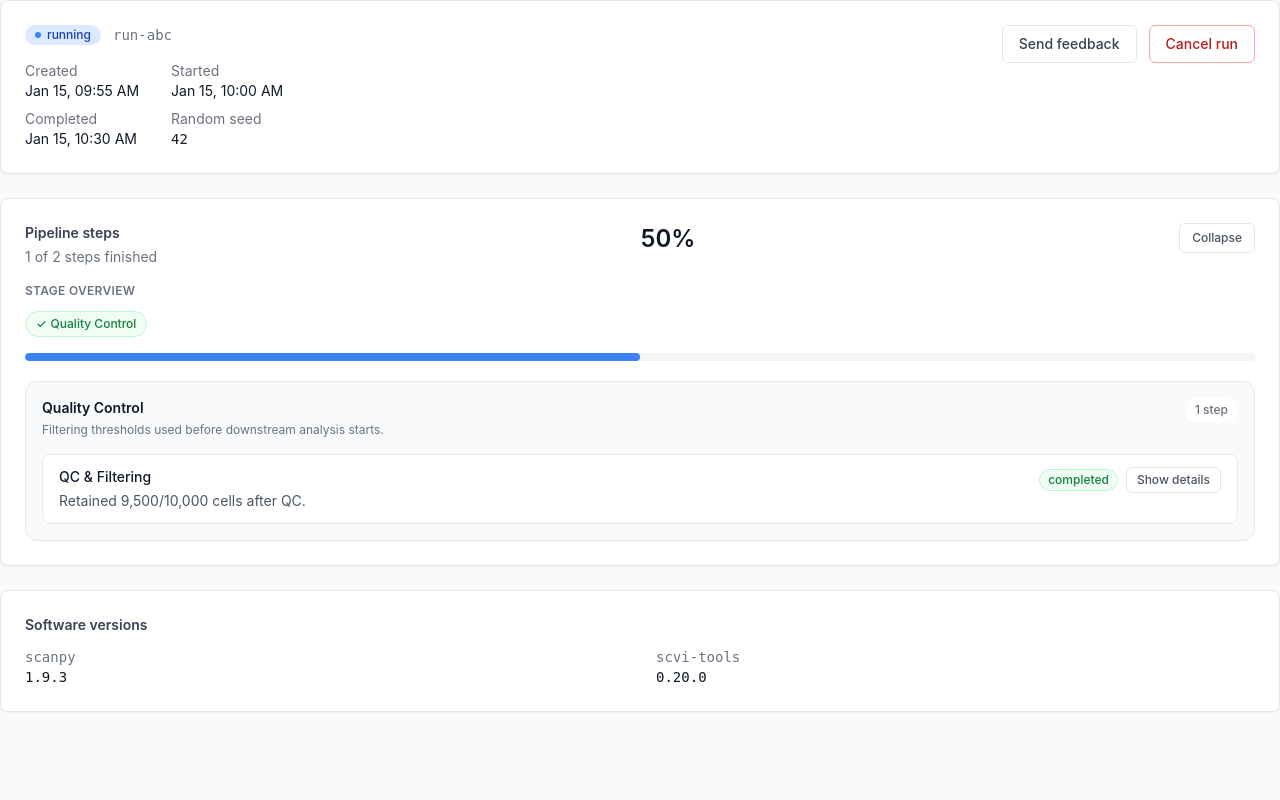
Test: RunDetail › allows expanding and collapsing individual progress steps
What coordinates should you click on to do the following:
click the button "Show details"
I would click on:
 (1173, 480)
Its box is top-left (1126, 467), bottom-right (1221, 493).
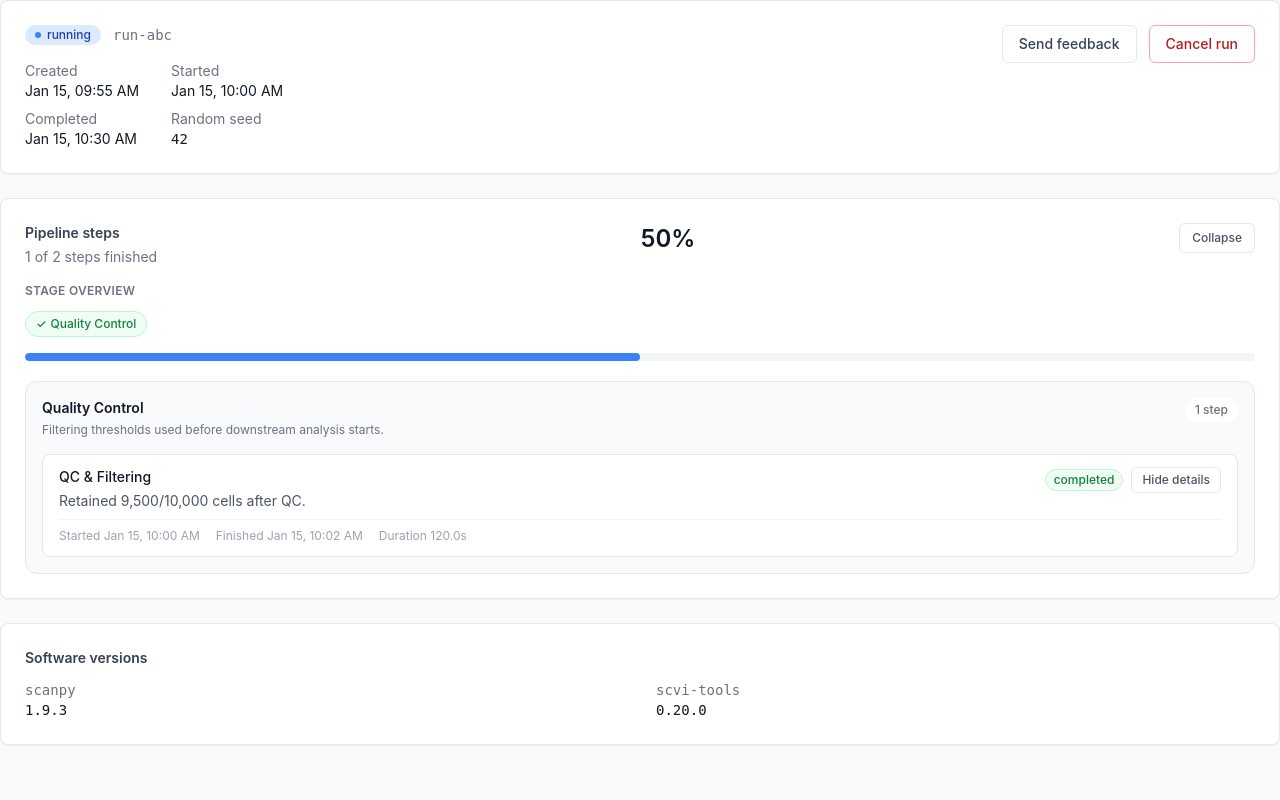
expect the text "Started Jan 15, 10:00 AM" is shown: met, box top-left (59, 528), bottom-right (200, 544)
expect the text "Duration 120.0s" is shown: met, box top-left (379, 528), bottom-right (467, 544)
What coordinates should you click on to do the following:
click the button "Hide details"
I would click on:
 (1176, 480)
Its box is top-left (1131, 467), bottom-right (1221, 493).
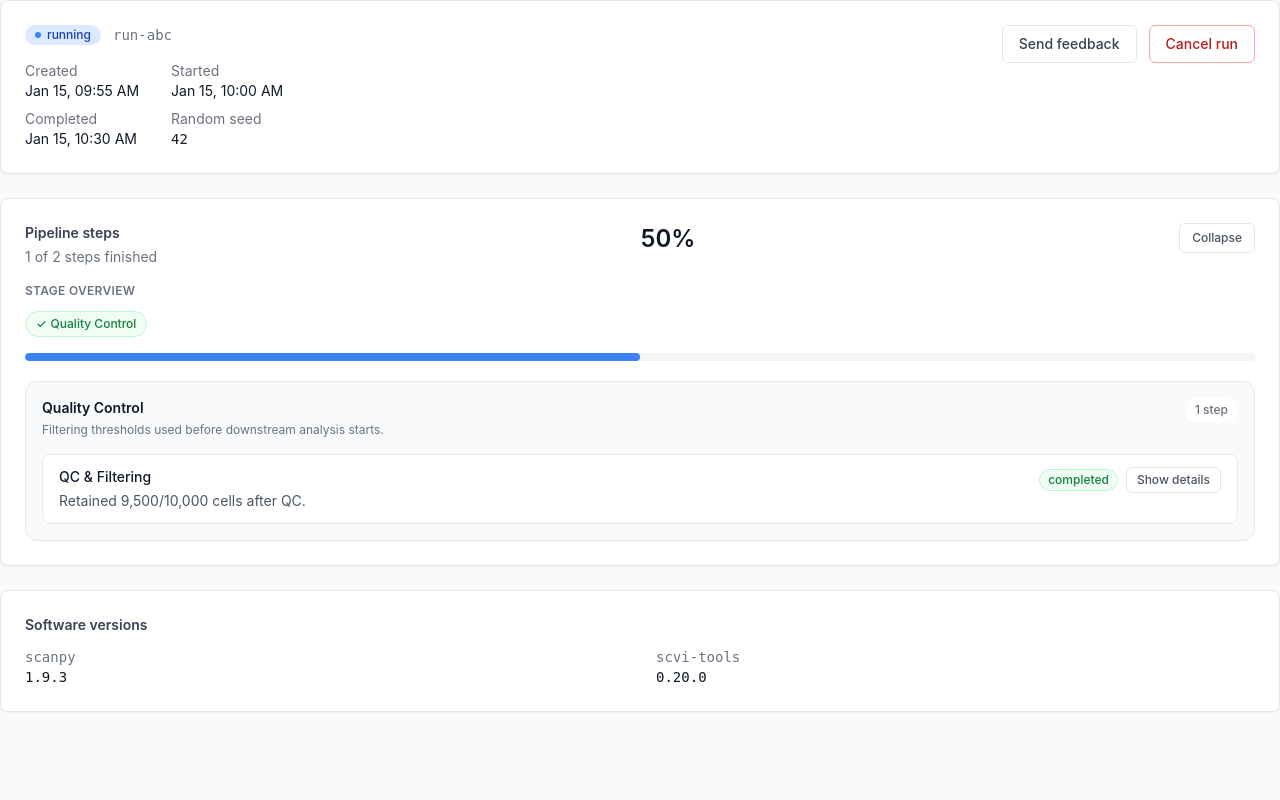
expect the text "Duration 120.0s" is gone: met
